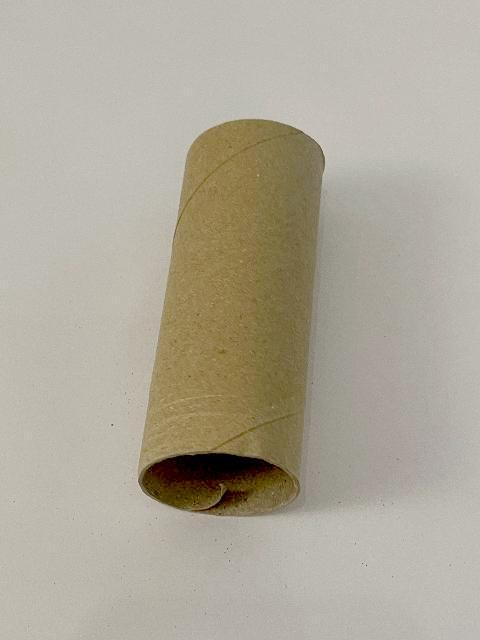tissueroll: (138, 117, 326, 519)
